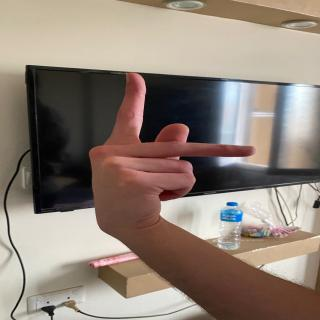DHAA: (89, 65, 261, 232)
